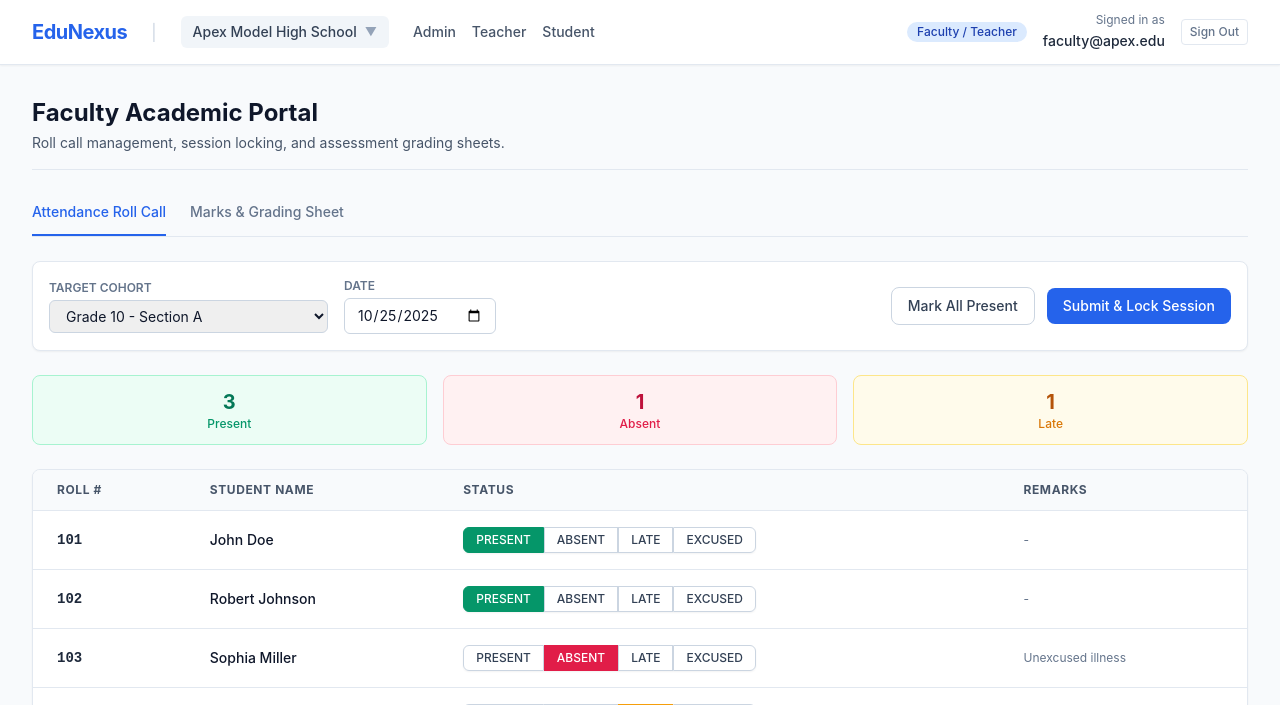
Test: TeacherPortal Component › switches to marks entry tab and supports marks input
The image size is (1280, 705).
Step 1. Click the button "Marks & Grading Sheet" → coordinates (267, 219), box [190,202,344,236]
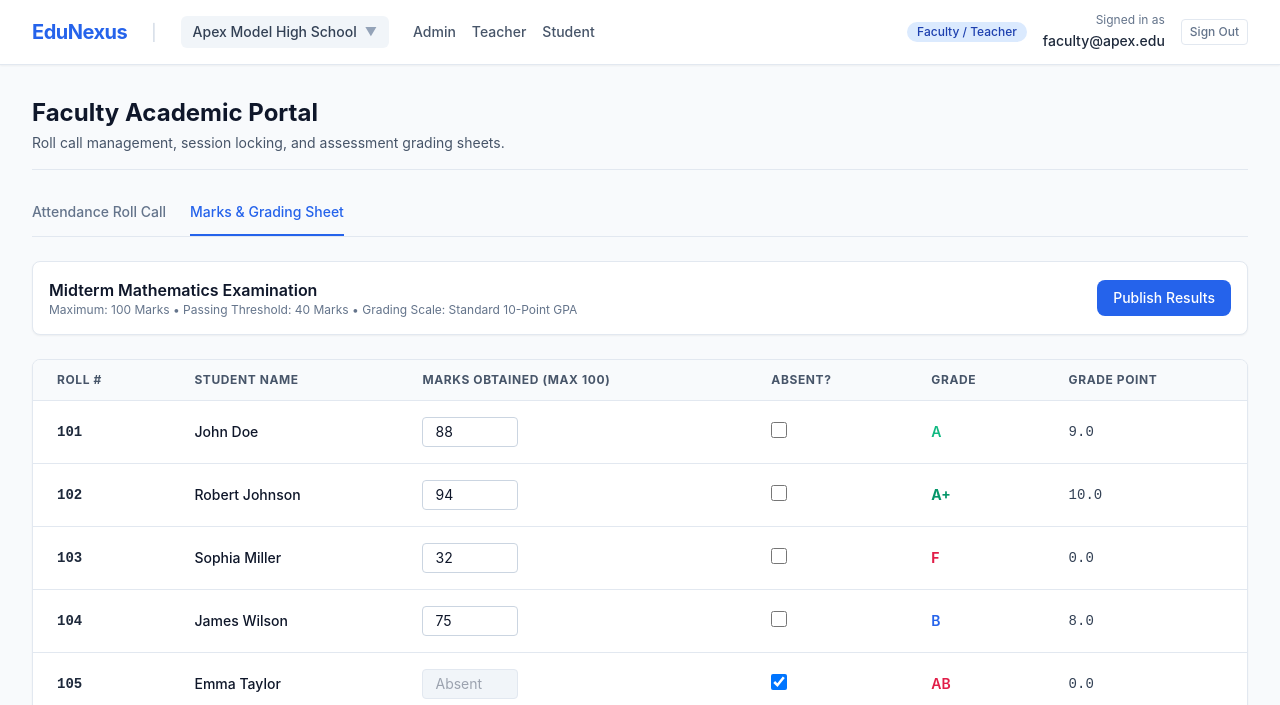
Now the heading "Midterm Mathematics Examination" is shown, box [49,280,317,300]
Now the button "Publish Results" is shown, box [1097,280,1231,316]
